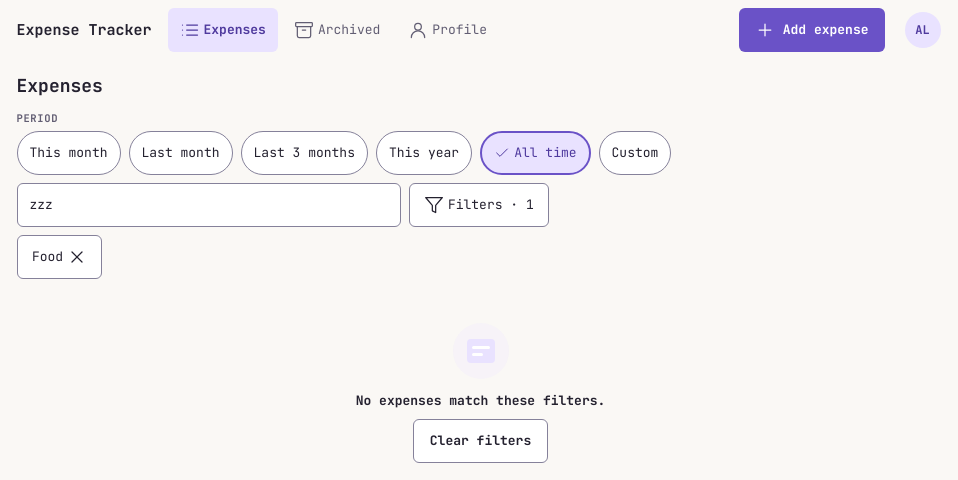
expense list › search, period and filters › says nothing matches and Clear filters goes back to the defaults
Expected: the text "No expenses match these filters." is shown, left=356, top=391, right=605, bottom=411
Click the button "Clear filters" at (480, 441), box left=413, top=419, right=548, bottom=463
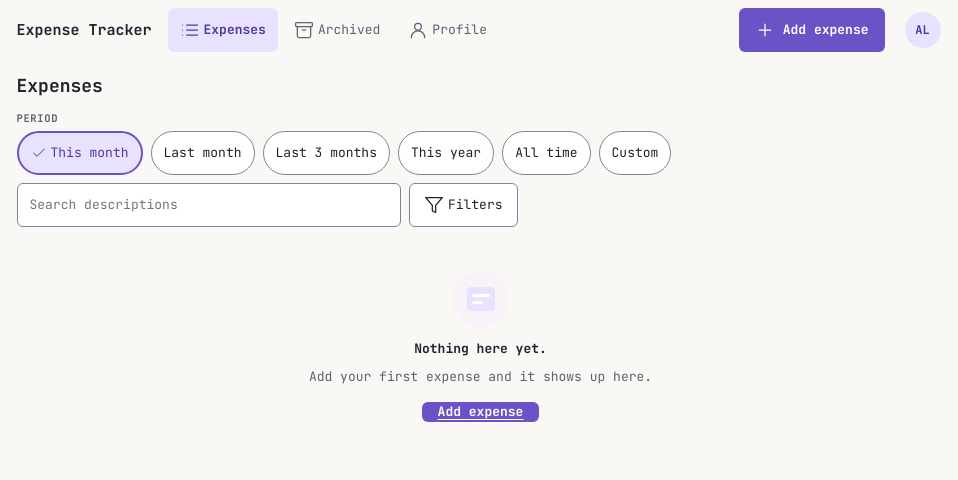
Expected: the search field with placeholder "Search descriptions" is empty, left=16, top=183, right=400, bottom=227
